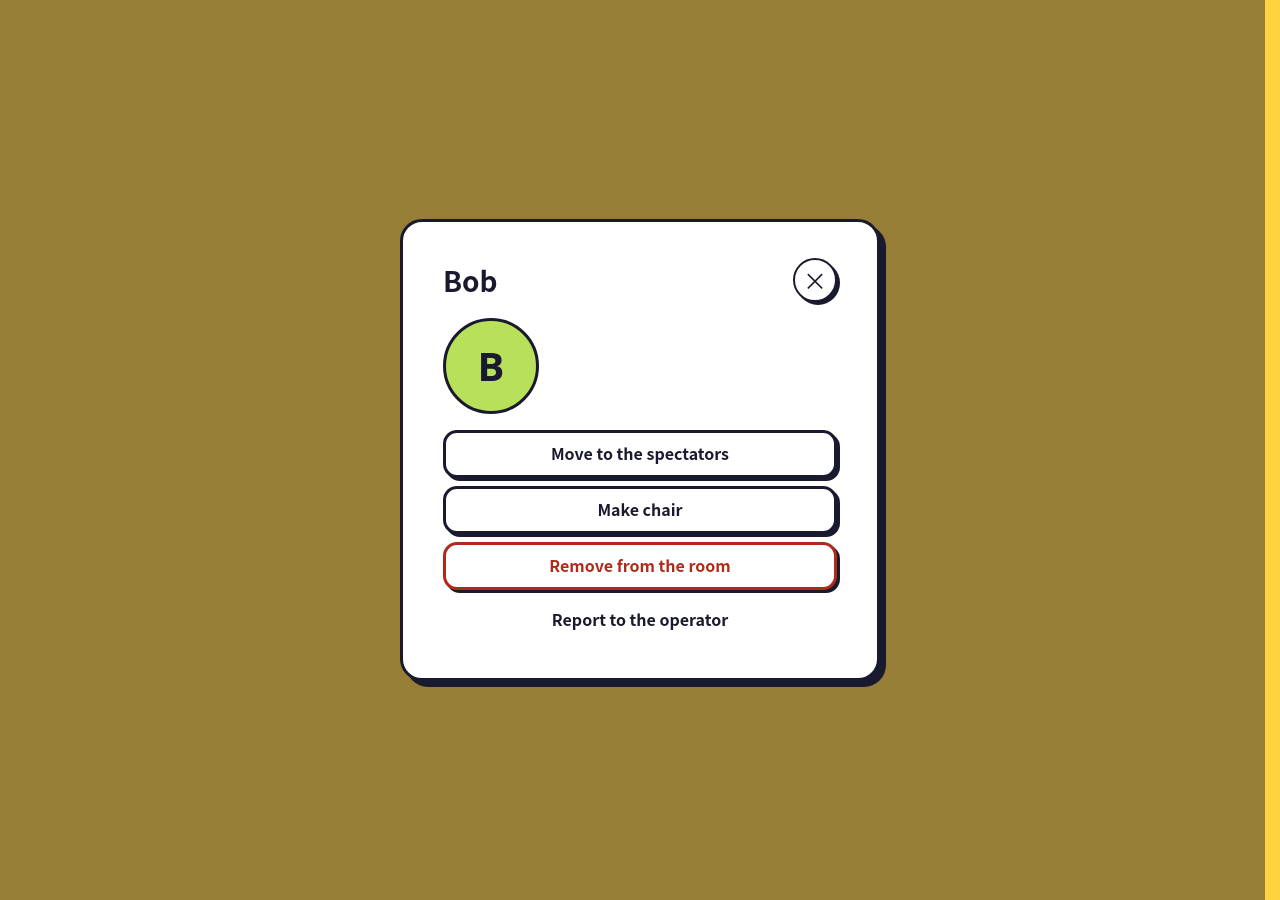
Test: PlayerPanel › shows what the server had against a report, and offers none to guests or in private rooms
This screenshot has width=1280, height=900.
Step 1. Click the button "Report to the operator" → (640, 620), box [443, 598, 837, 642]
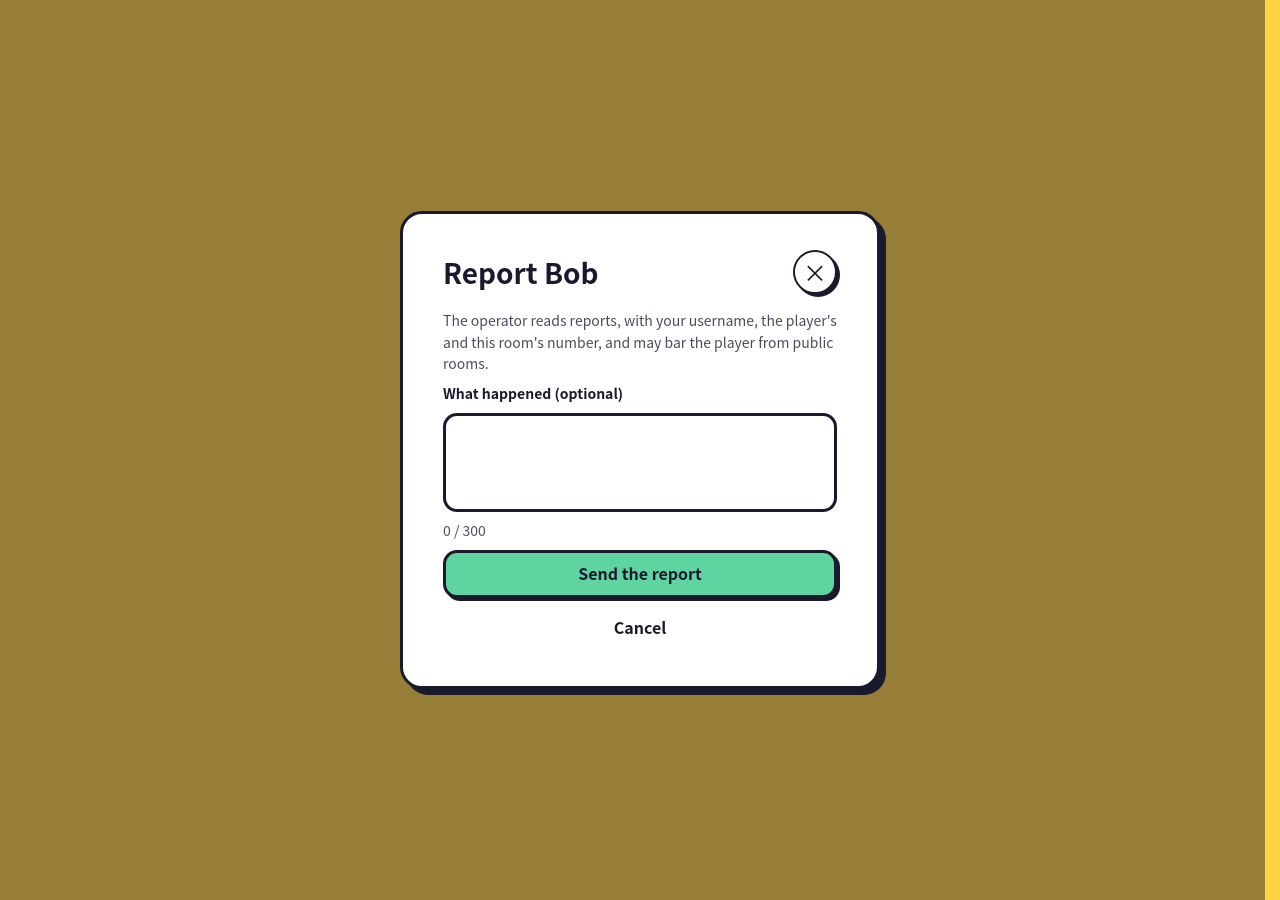
Step 2. Click the button "Send the report" → (640, 574), box [443, 550, 837, 598]
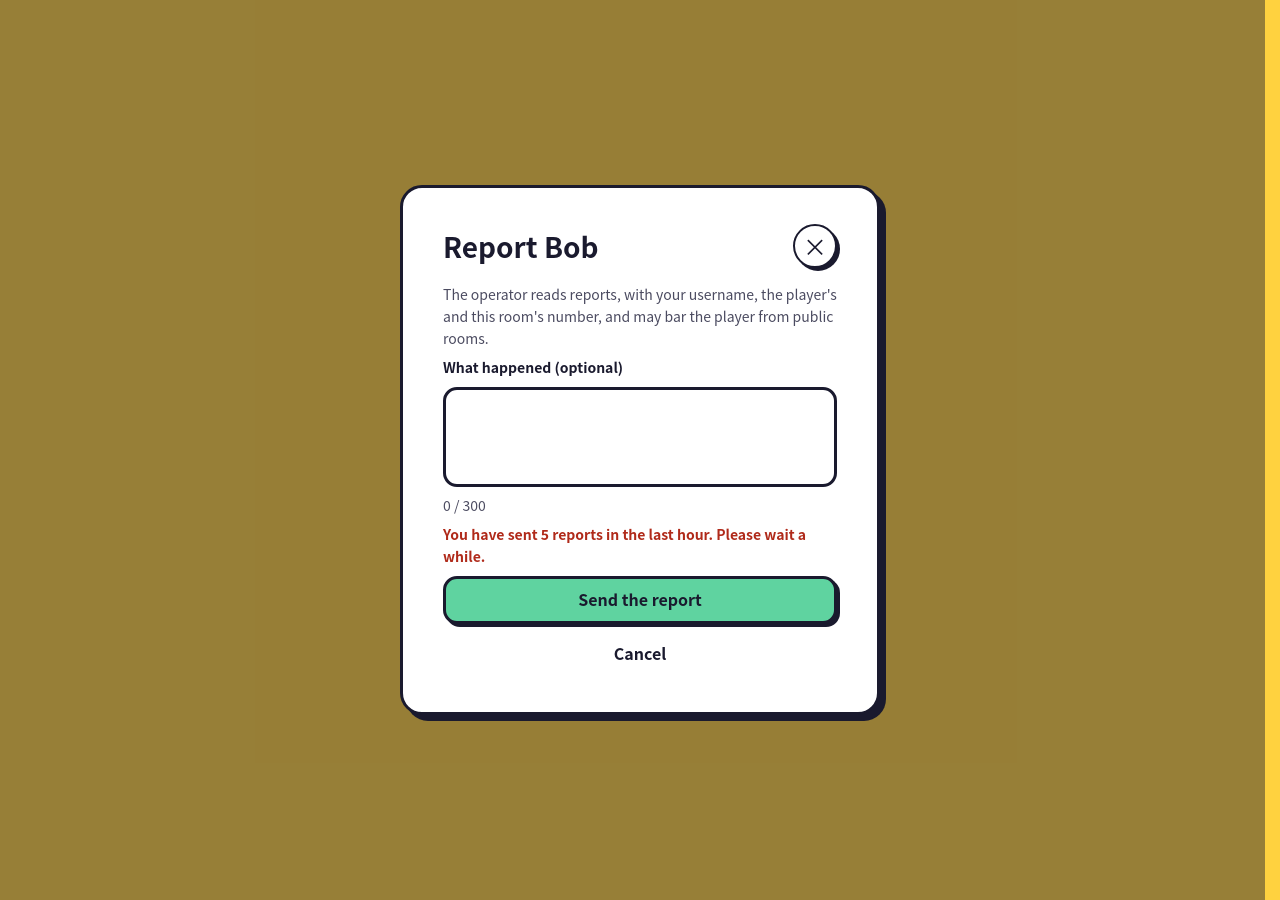
Check: the message "You have sent 5 reports in the last hour. Please wait a while." is shown, box [443, 524, 837, 568]
